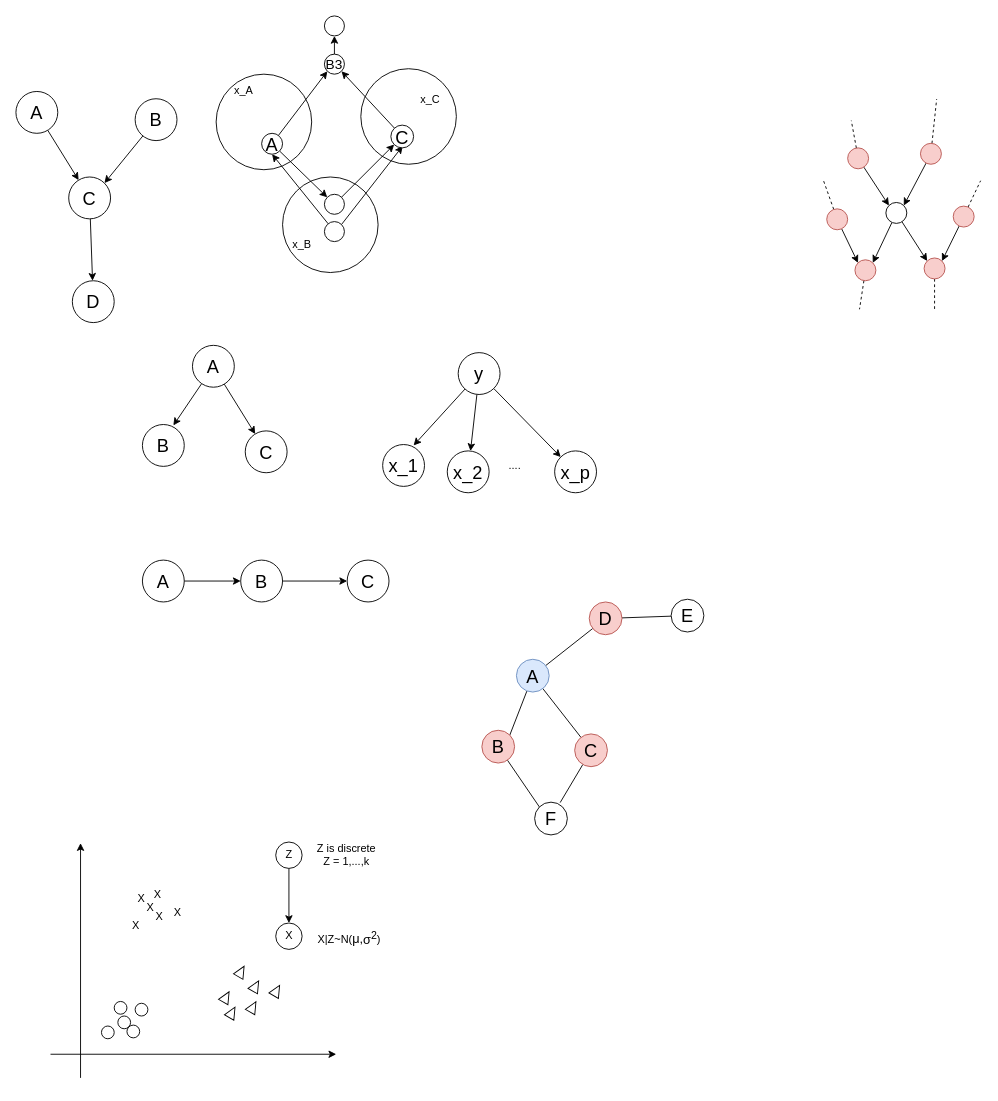
Image size: 998x1101. Some labels were removed from this diagram. Each missing label, with the centre of its shape:
"B1" belongs at (334,203).
"B2" belongs at (334,231).
"B4" belongs at (334,25).
"x_i" belongs at (896,212).
